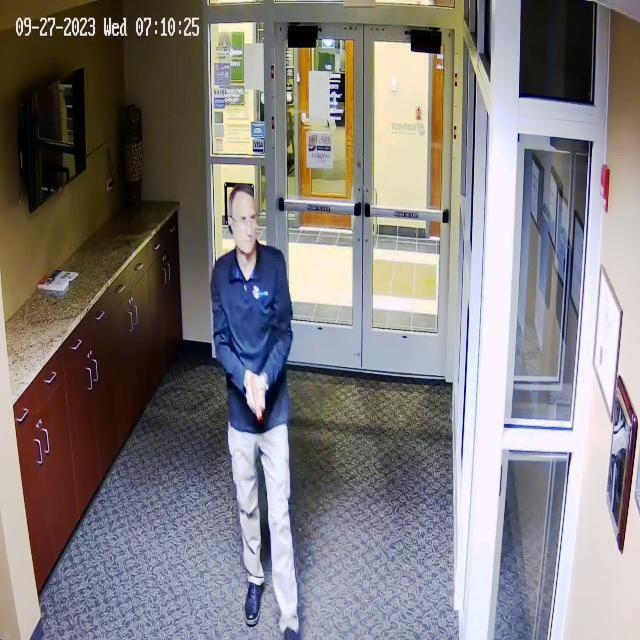Gun: (243, 369, 276, 424)
